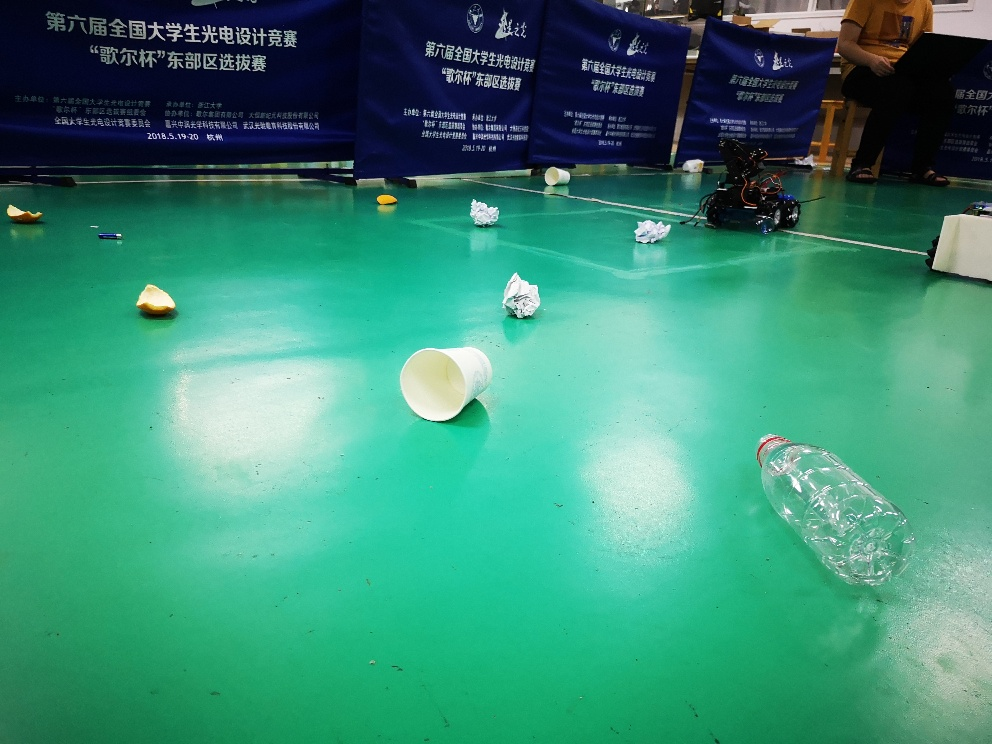battery: (92, 228, 129, 246)
bottle: (752, 432, 914, 597)
orangepeel: (128, 281, 184, 315), (1, 199, 52, 231), (374, 192, 398, 208)
papercup: (398, 345, 495, 424), (541, 166, 574, 187)
spitball: (500, 273, 544, 321), (631, 218, 671, 247), (468, 199, 500, 229)
